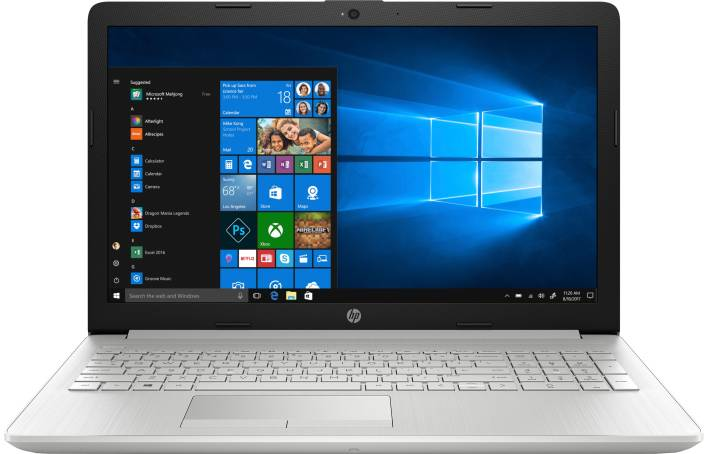Laptop: (1, 1, 704, 451)
